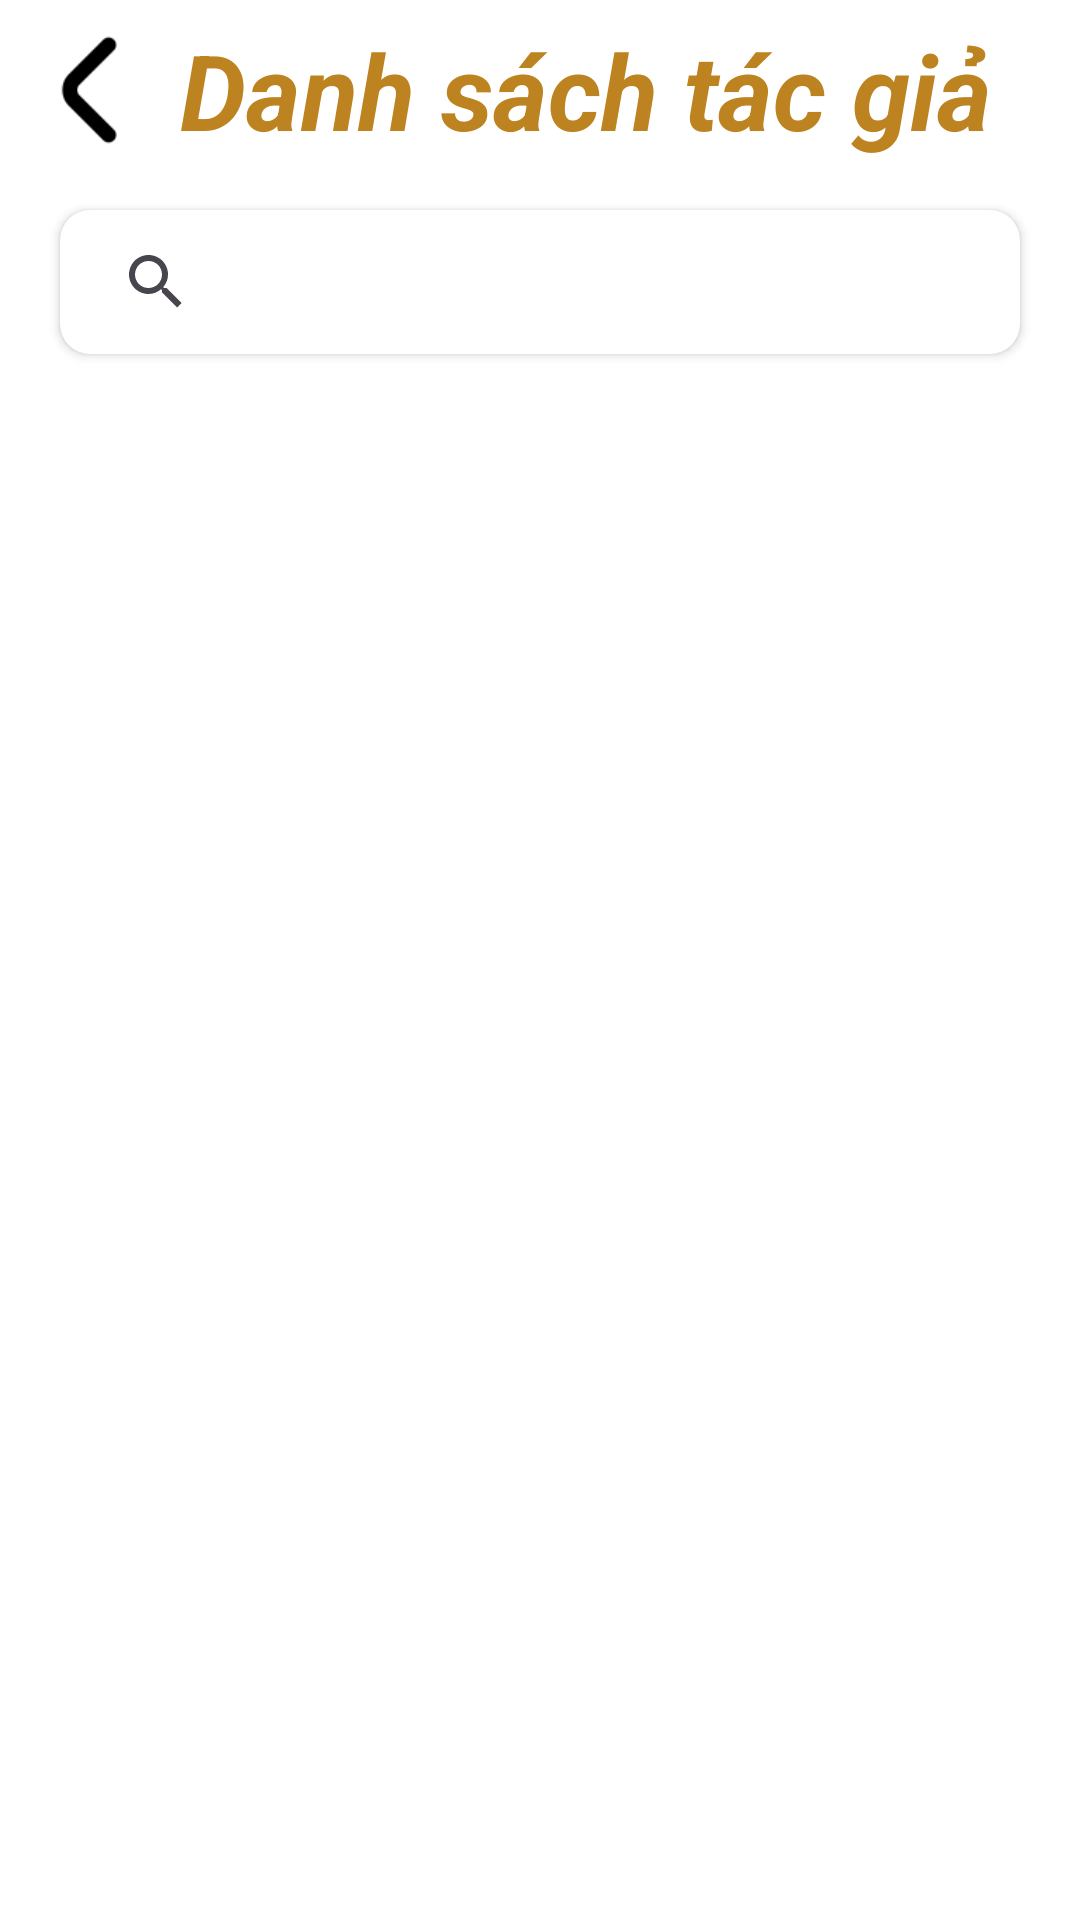

Icon bounding boxes for this 1080w x 1920h phone screenshot, format box(x1, y1, x2, y2):
angle left: box(61, 36, 117, 144)
